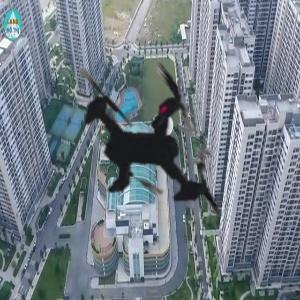drone: (12, 3, 295, 286)
